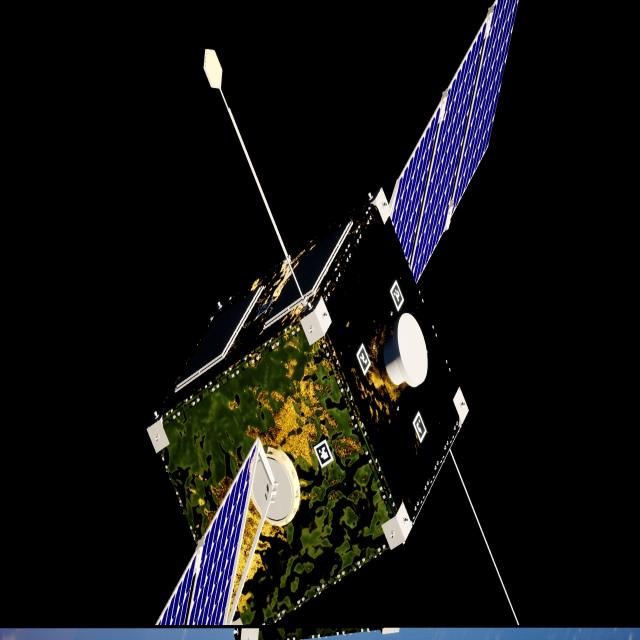satellite: (147, 0, 523, 631)
